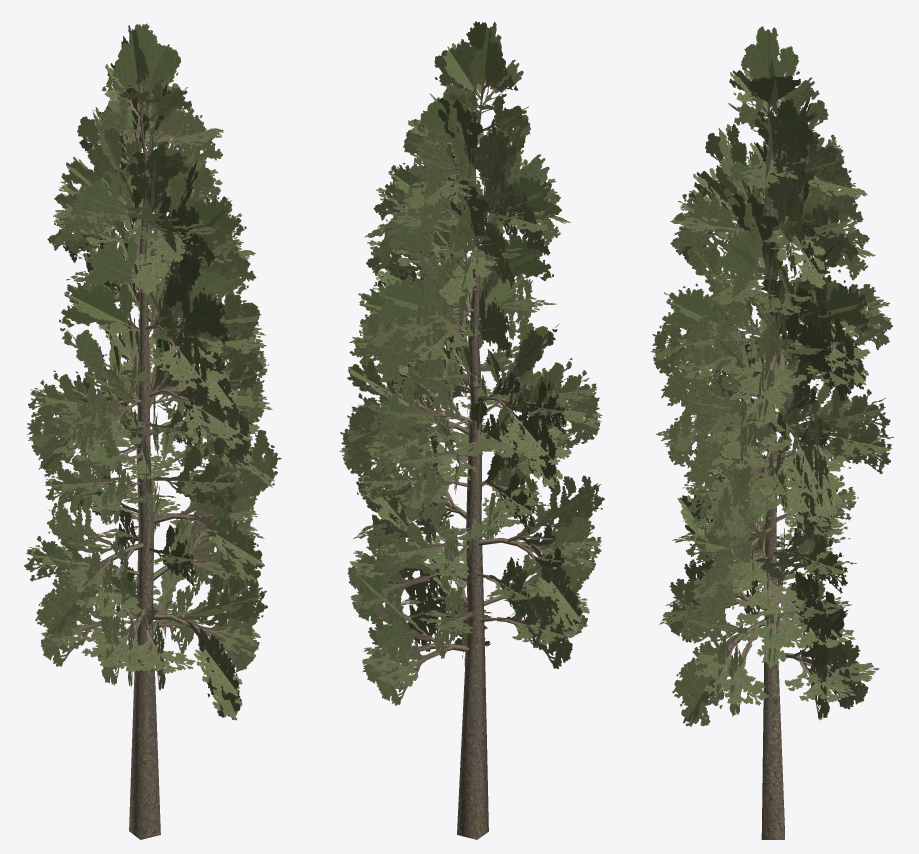
The model's file is PinusContorta.glb.
The picture shows the model from 3 angles, left to right: view 1: azimuth 30°, elevation 25°; view 2: azimuth 150°, elevation 25°; view 3: azimuth 270°, elevation 25°; orthographic projection.
Visible parts, largest first — view 1: Lodgepole_Pine__Realistic_LOD3; view 2: Lodgepole_Pine__Realistic_LOD3; view 3: Lodgepole_Pine__Realistic_LOD3.
Boxes of the visible parts, box(x1,y1,x2,y2) form: Lodgepole_Pine__Realistic_LOD3: box(24, 23, 281, 839); Lodgepole_Pine__Realistic_LOD3: box(339, 21, 604, 839); Lodgepole_Pine__Realistic_LOD3: box(650, 26, 893, 839).
Bounding box in the file's own units: 13.58 × 42.66 × 12.65.
Materials: 1 (1 with a texture image).
